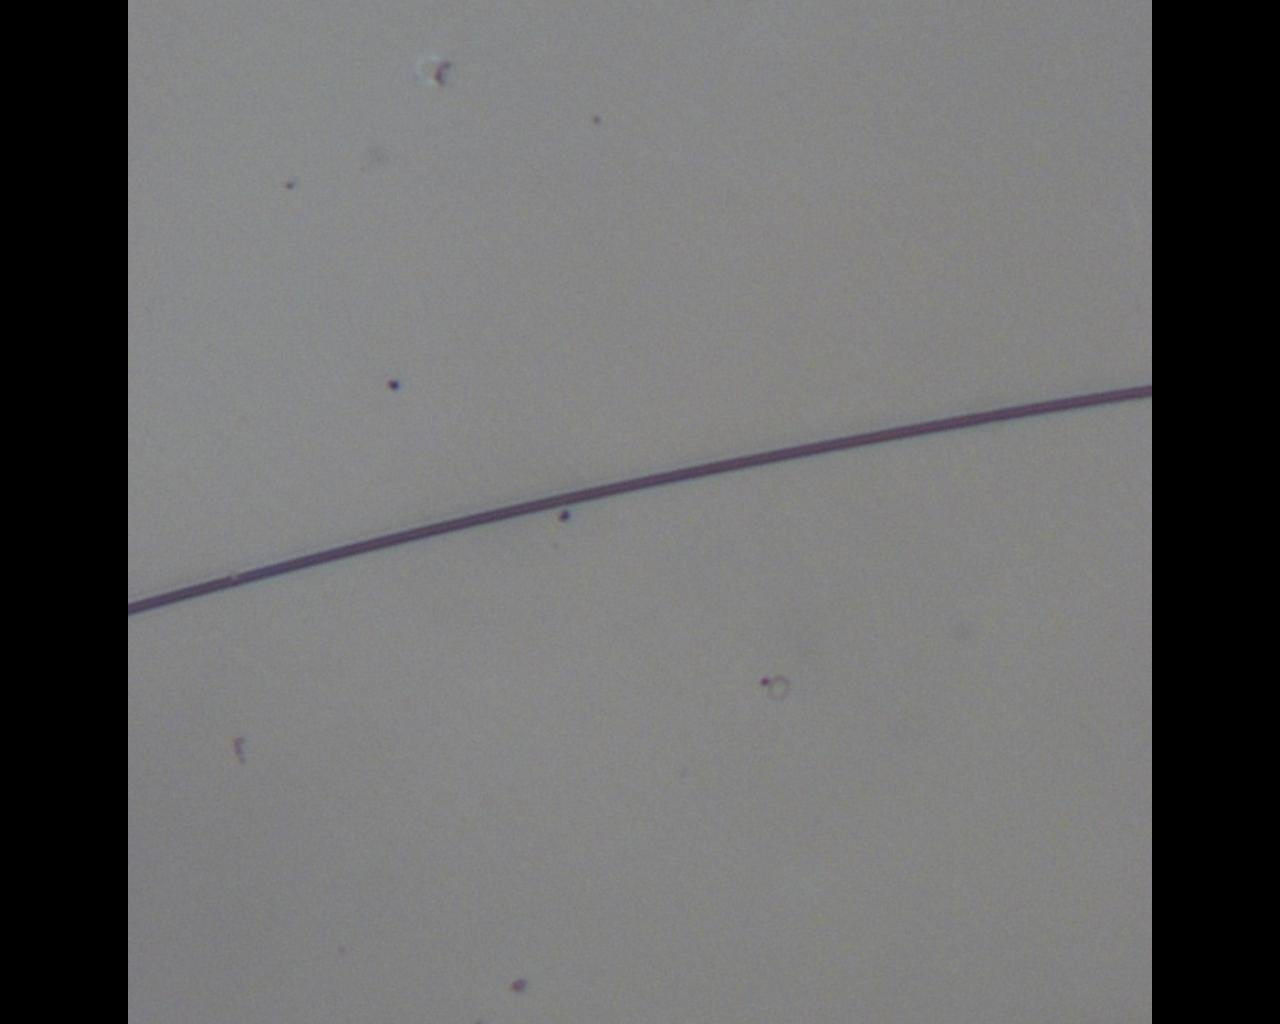fiber: (127, 381, 1151, 619)
